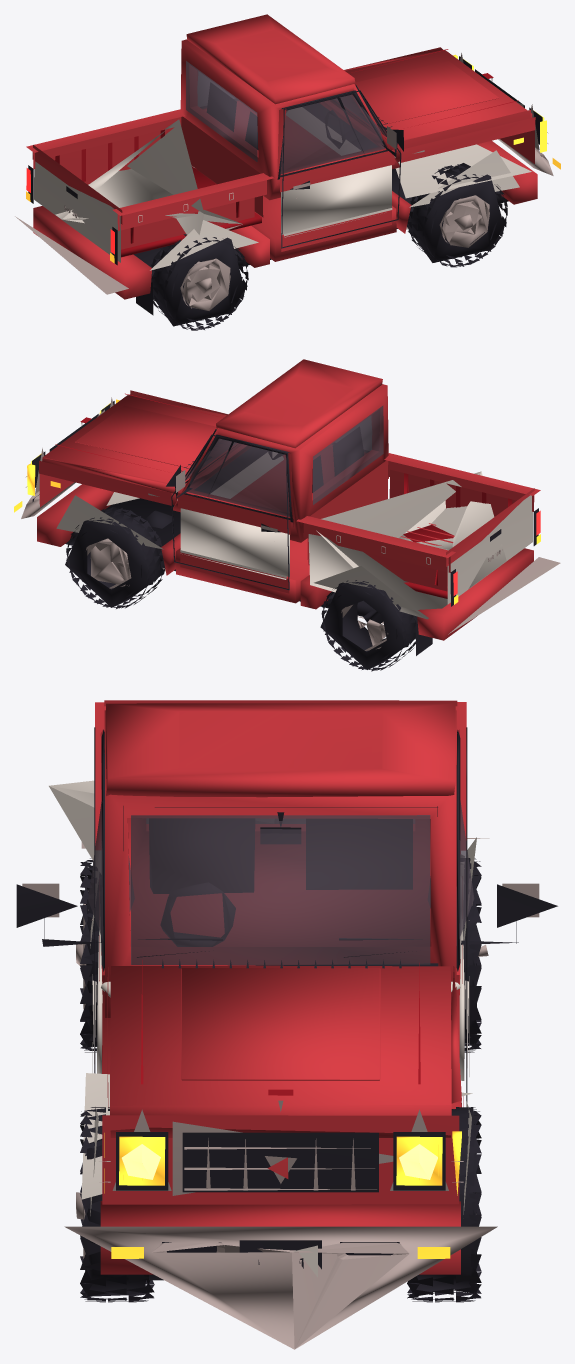
3 renders of one model, top to bottom at view 1: azimuth 30°, elevation 25°; view 2: azimuth 150°, elevation 25°; view 3: azimuth 270°, elevation 25°, orthographic. The views are drawn at different scales.
Visible parts, largest first — view 1: body, static_pal_picketWhite, doorL_pal_asphalt, doorL_pal_picketWhite, wheelFL_pal_uiDark, wheelRL_pal_uiDark, static_pal_uiDark, static_pal_asphalt, doorL_pal_survivorRed, tailgate_pal_picketWhite, wheelRL_pal_sidewalk, wheelFL_pal_sidewalk (+4 smaller); view 2: body, static_pal_picketWhite, wheelFR_pal_uiDark, static_pal_uiDark, doorR_pal_asphalt, wheelRR_pal_uiDark, doorR_pal_picketWhite, static_pal_asphalt, doorR_pal_survivorRed, tailgate_pal_picketWhite, doorR_pal_uiDark, static_pal_sidewalk (+4 smaller); view 3: body, static_pal_asphalt, static_pal_uiDark, static_pal_sidewalk, static_pal_picketWhite, wheelFR_pal_uiDark, wheelFL_pal_uiDark, doorR_pal_uiDark, doorL_pal_uiDark, wheelRL_pal_uiDark, wheelRR_pal_uiDark, lampHeadR_emi_schoolBusYellow (+9 smaller).
Part boxes in pixels (x1=…): body: x1=26, y1=14, x2=537, y2=299; static_pal_picketWhite: x1=55, y1=107, x2=531, y2=270; doorL_pal_asphalt: x1=280, y1=94, x2=384, y2=173; doorL_pal_picketWhite: x1=281, y1=165, x2=392, y2=236; wheelFL_pal_uiDark: x1=407, y1=163, x2=507, y2=267; wheelRL_pal_uiDark: x1=151, y1=234, x2=248, y2=330; static_pal_uiDark: x1=28, y1=56, x2=542, y2=315; static_pal_asphalt: x1=186, y1=61, x2=386, y2=161; doorL_pal_survivorRed: x1=280, y1=149, x2=394, y2=251; tailgate_pal_picketWhite: x1=34, y1=161, x2=120, y2=262; wheelRL_pal_sidewalk: x1=180, y1=258, x2=230, y2=310; wheelFL_pal_sidewalk: x1=439, y1=195, x2=489, y2=247; body: x1=37, y1=359, x2=540, y2=640; static_pal_picketWhite: x1=56, y1=452, x2=506, y2=619; wheelFR_pal_uiDark: x1=65, y1=507, x2=165, y2=608; static_pal_uiDark: x1=32, y1=401, x2=538, y2=655; doorR_pal_asphalt: x1=188, y1=438, x2=289, y2=516; wheelRR_pal_uiDark: x1=320, y1=580, x2=417, y2=671; doorR_pal_picketWhite: x1=180, y1=508, x2=289, y2=577; static_pal_asphalt: x1=185, y1=405, x2=383, y2=504; doorR_pal_survivorRed: x1=178, y1=493, x2=290, y2=593; tailgate_pal_picketWhite: x1=447, y1=495, x2=532, y2=604; doorR_pal_uiDark: x1=166, y1=434, x2=293, y2=590; static_pal_sidewalk: x1=21, y1=397, x2=560, y2=634; body: x1=95, y1=702, x2=466, y2=1274; static_pal_asphalt: x1=131, y1=815, x2=430, y2=964; static_pal_uiDark: x1=116, y1=806, x2=445, y2=1280; static_pal_sidewalk: x1=64, y1=838, x2=497, y2=1349; static_pal_picketWhite: x1=49, y1=780, x2=476, y2=1277; wheelFR_pal_uiDark: x1=407, y1=1107, x2=481, y2=1302; wheelFL_pal_uiDark: x1=80, y1=1107, x2=154, y2=1302; doorR_pal_uiDark: x1=456, y1=727, x2=557, y2=1102; doorL_pal_uiDark: x1=16, y1=727, x2=104, y2=1073; wheelRL_pal_uiDark: x1=80, y1=858, x2=101, y2=1052; wheelRR_pal_uiDark: x1=460, y1=858, x2=481, y2=1052; lampHeadR_emi_schoolBusYellow: x1=396, y1=1136, x2=442, y2=1185.
Size of the model in its own units: 5.28 by 2.24 by 2.62.
